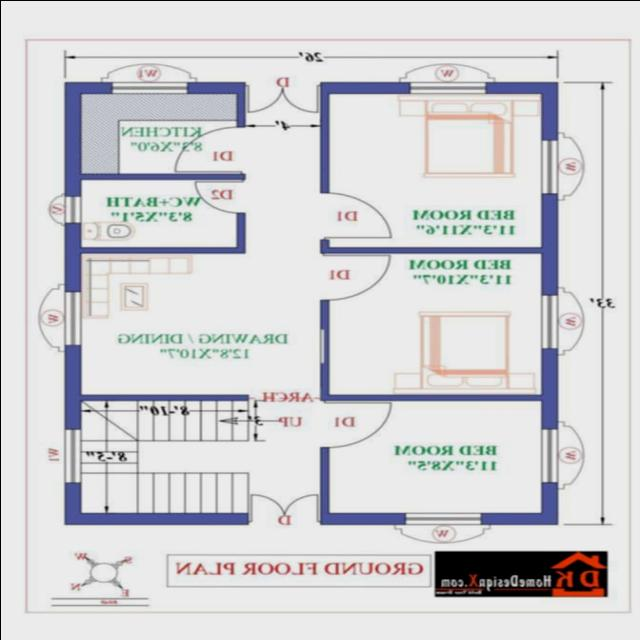column: (56, 75, 90, 98), (532, 504, 566, 526), (534, 76, 564, 100), (310, 505, 340, 527), (56, 240, 86, 260), (532, 240, 564, 258), (534, 388, 564, 406), (313, 76, 338, 97), (60, 387, 88, 405), (59, 506, 83, 526)
